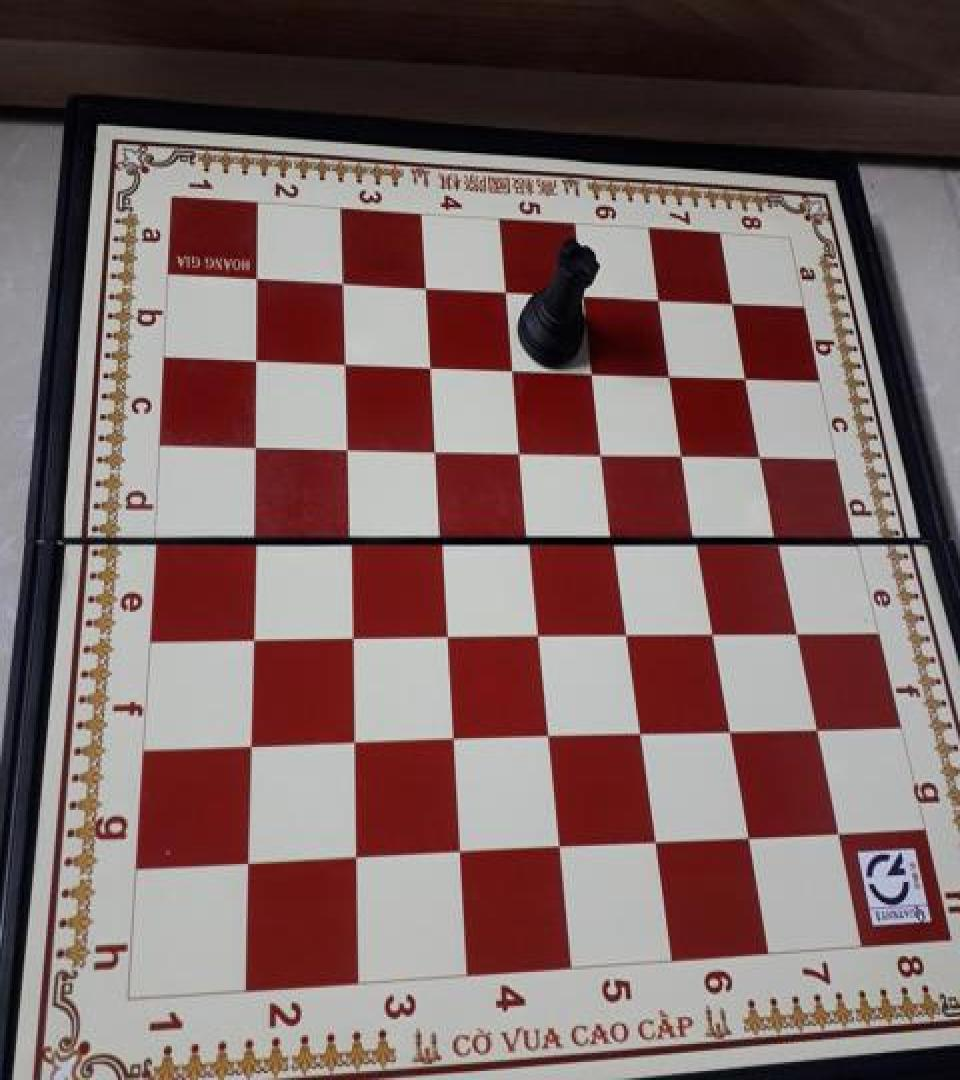xcorner: (654, 353, 688, 392), (715, 282, 749, 320), (642, 278, 676, 316), (566, 274, 600, 312), (488, 270, 522, 308), (408, 266, 442, 304), (325, 261, 359, 299), (239, 256, 273, 294), (730, 357, 764, 395), (576, 350, 610, 388), (495, 346, 529, 384), (412, 344, 446, 382), (327, 341, 361, 379), (238, 338, 272, 376), (745, 436, 779, 474), (667, 433, 701, 471), (587, 431, 621, 469), (503, 430, 537, 468), (417, 428, 451, 466), (329, 426, 363, 464), (237, 423, 271, 461), (762, 520, 796, 558), (681, 519, 715, 557), (598, 519, 632, 557), (512, 518, 546, 556), (423, 518, 457, 556), (331, 516, 365, 554), (236, 516, 270, 554), (779, 610, 813, 648), (696, 611, 730, 649), (610, 612, 644, 650), (521, 613, 555, 651), (429, 614, 463, 652), (333, 616, 367, 654), (234, 616, 268, 654), (798, 706, 832, 744), (712, 710, 746, 748), (623, 712, 657, 750), (531, 716, 565, 754), (435, 718, 469, 756), (336, 721, 370, 759), (233, 724, 267, 762), (819, 811, 853, 849), (730, 816, 764, 854), (637, 822, 671, 860), (542, 826, 576, 864), (442, 832, 476, 870), (339, 837, 373, 875), (231, 843, 265, 881)
